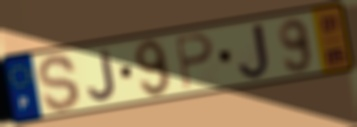9: (132, 38, 173, 99), (277, 17, 315, 74)
J: (236, 21, 273, 82), (86, 48, 119, 103)
P: (173, 32, 217, 92)
S: (36, 53, 83, 114)
